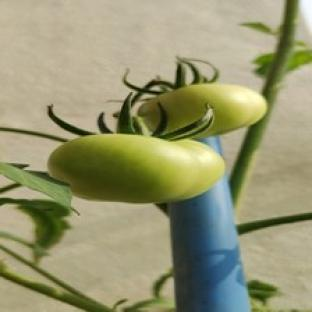Tomato: (48, 134, 224, 203), (138, 84, 267, 137)
